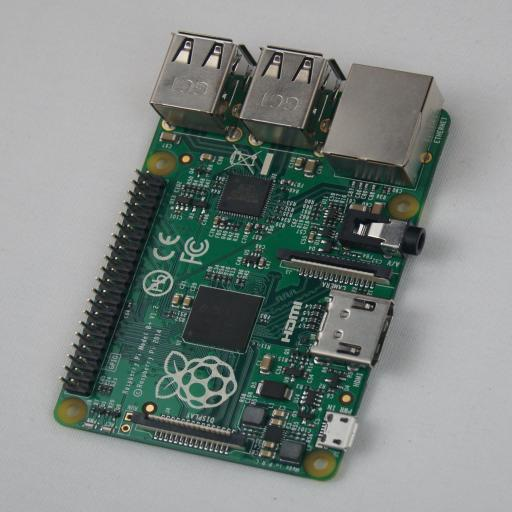Raspberry Pi 1 B-: (53, 32, 451, 481)
